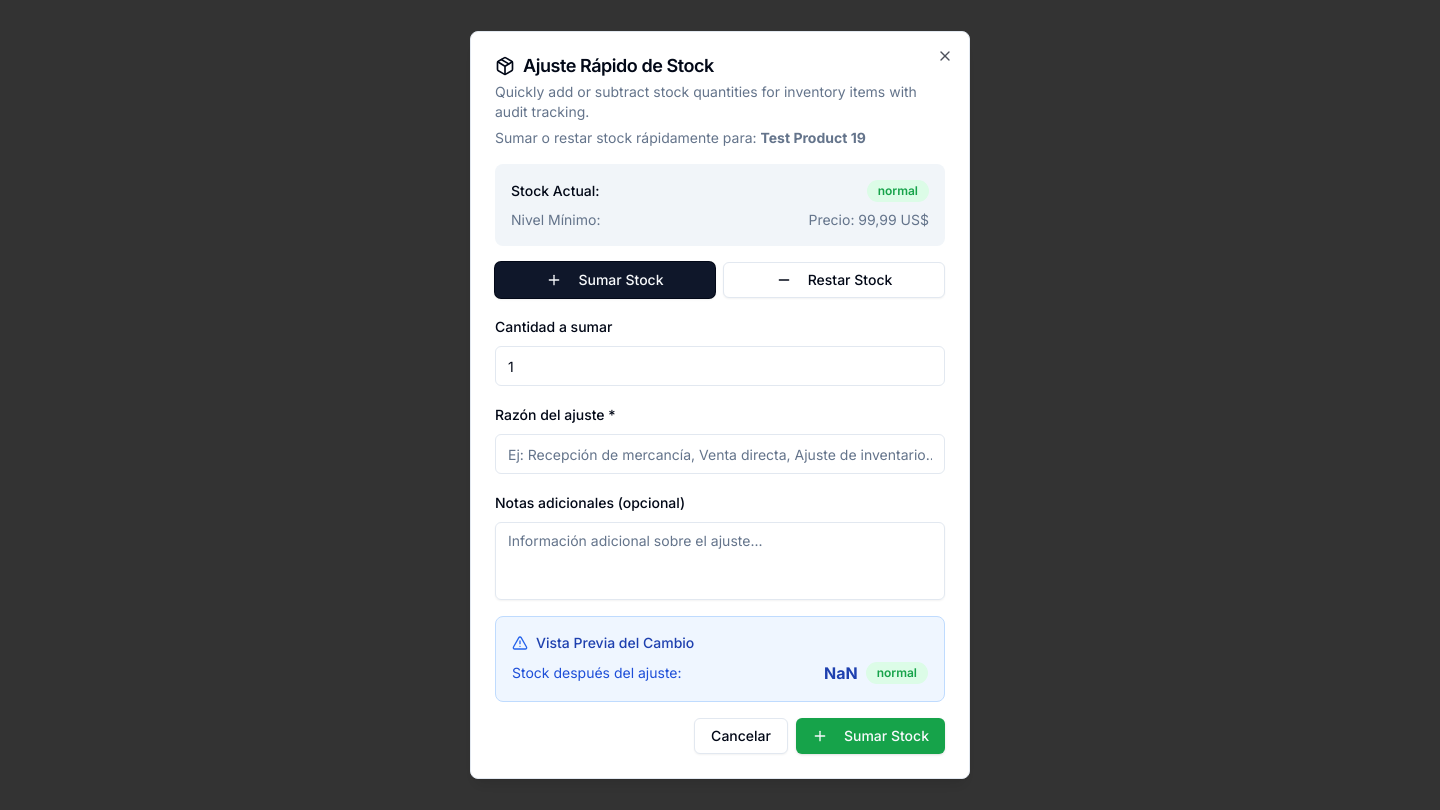
Scenario: QuickStockOperations › shows projected stock preview for subtract operation
Click the button "Restar Stock".
click(834, 280)  # box [723,262,945,298]
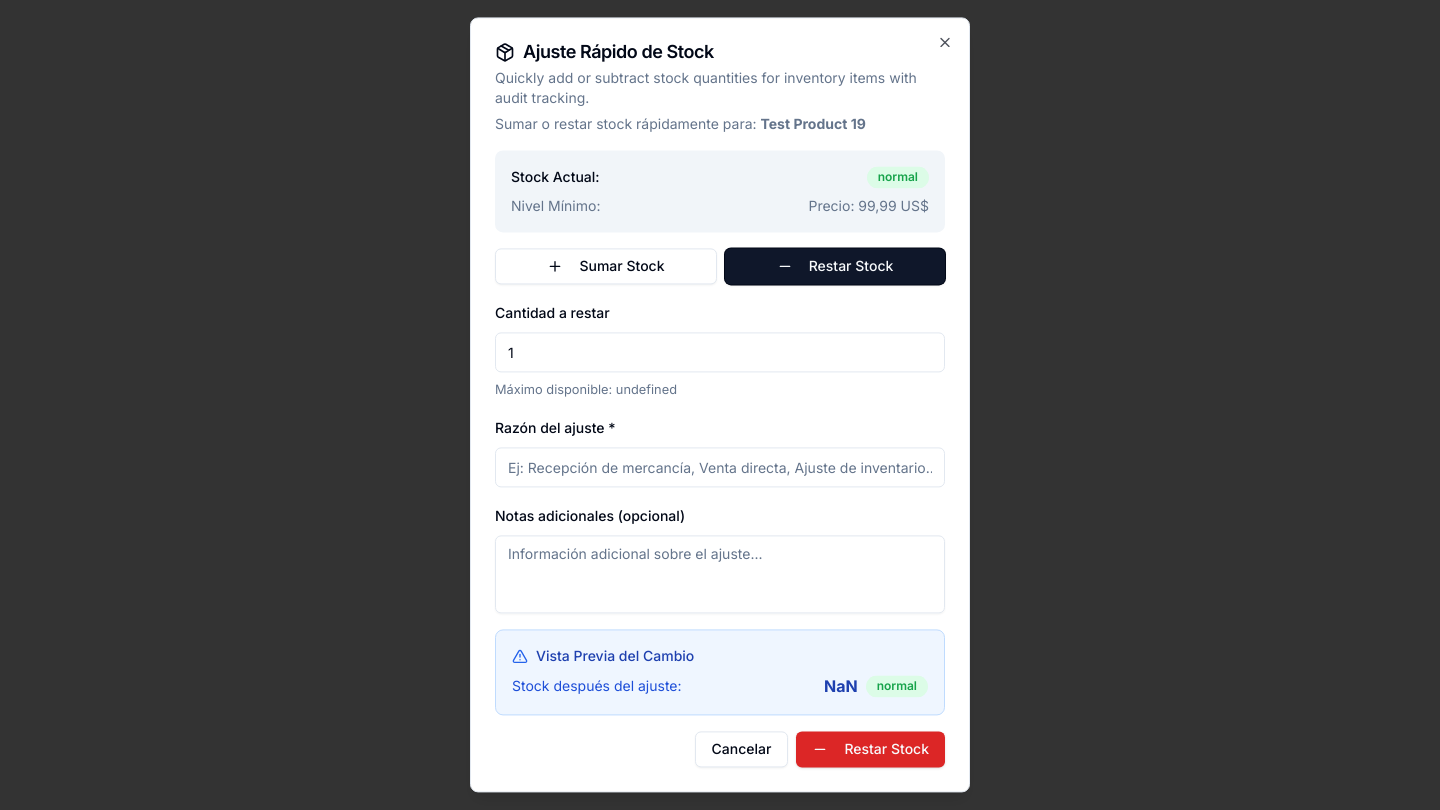
Clear the number field labelled "Cantidad a restar" at (720, 352), box [495,332,945,372]
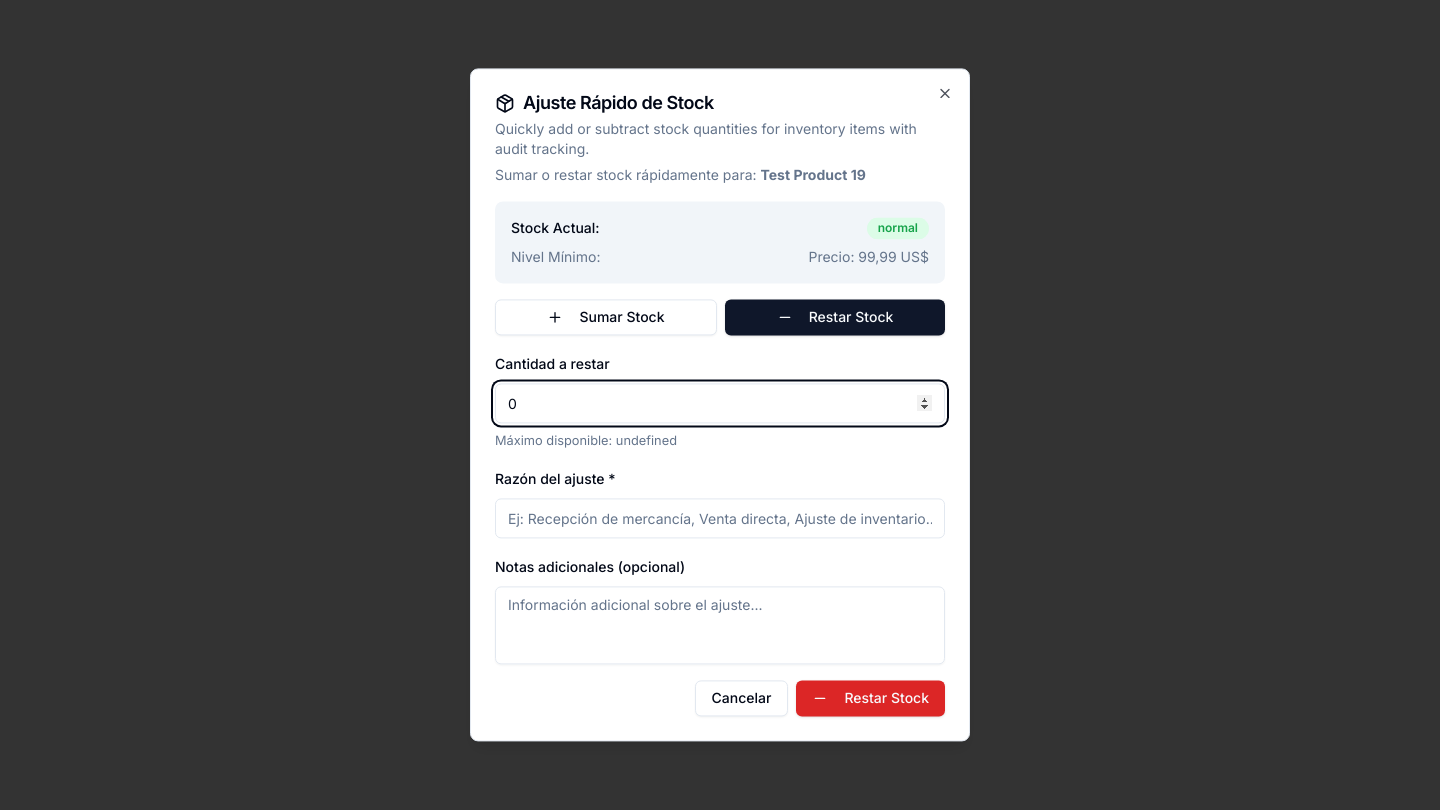
Type "3" into the number field labelled "Cantidad a restar".
click(720, 403); type("3")  # box [495,383,945,423]
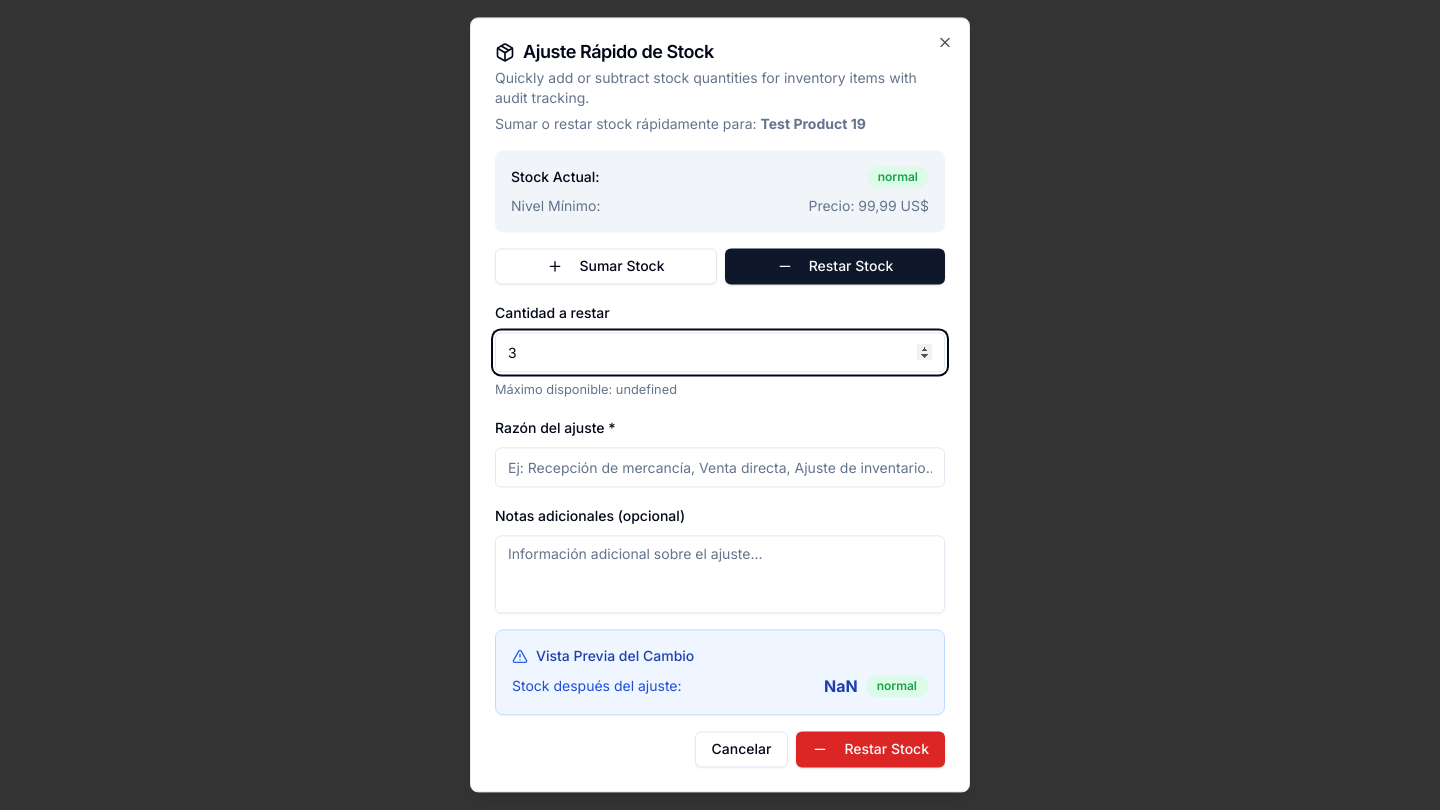
expect the text "Vista Previa del Cambio" is shown: met, box [536,647,694,667]
expect the text "NaN" is shown: met, box [824,675,858,699]
